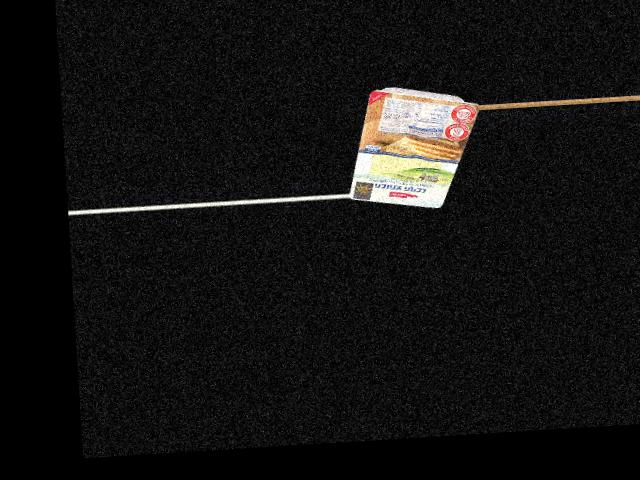cheese: (354, 86, 464, 211)
